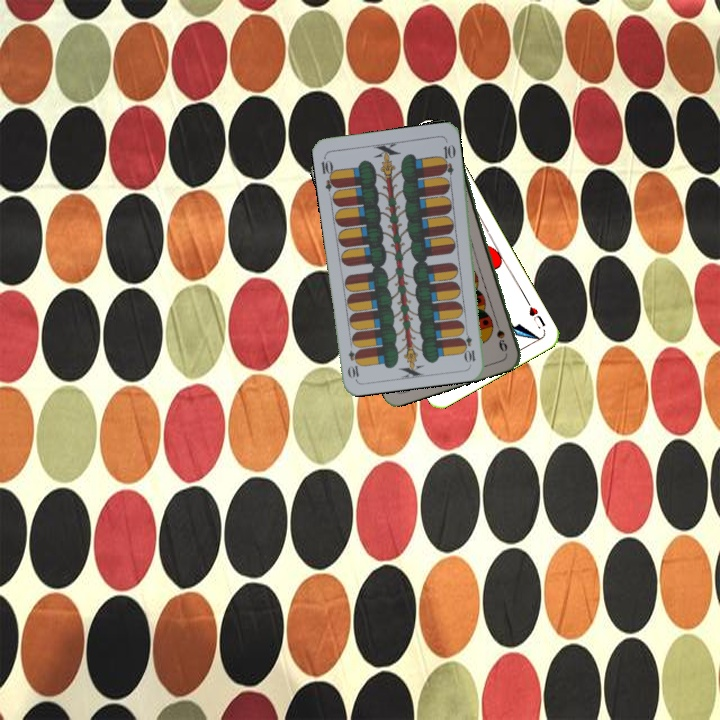E10: (317, 153, 340, 193), (460, 324, 478, 365)
HU: (522, 296, 548, 329)
S9: (491, 315, 510, 354)
